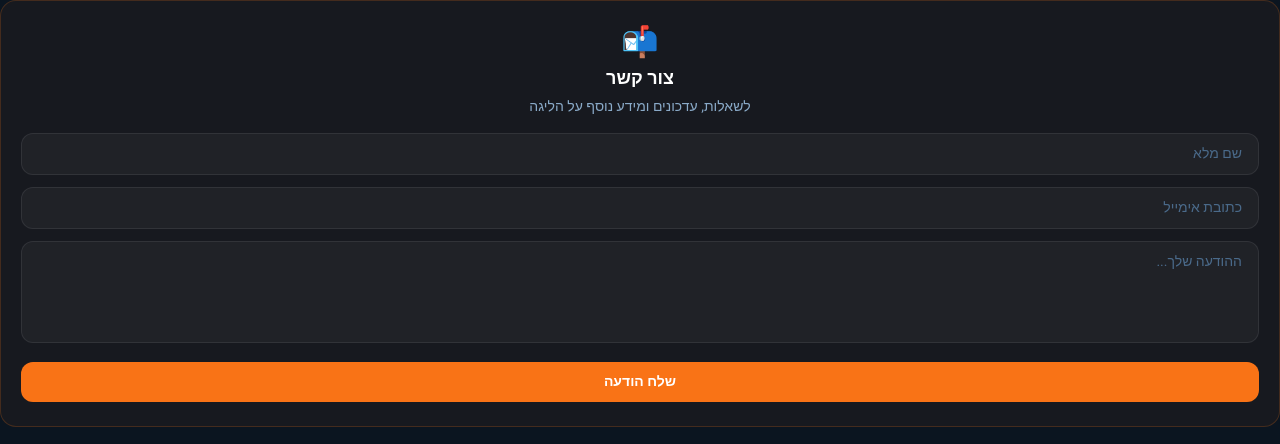
it: ContactForm › posts the entered values to /api/contact and shows the success state
In the field with placeholder "שם מלא": (640, 154) left=21, top=133, right=1259, bottom=175, type "Dana"
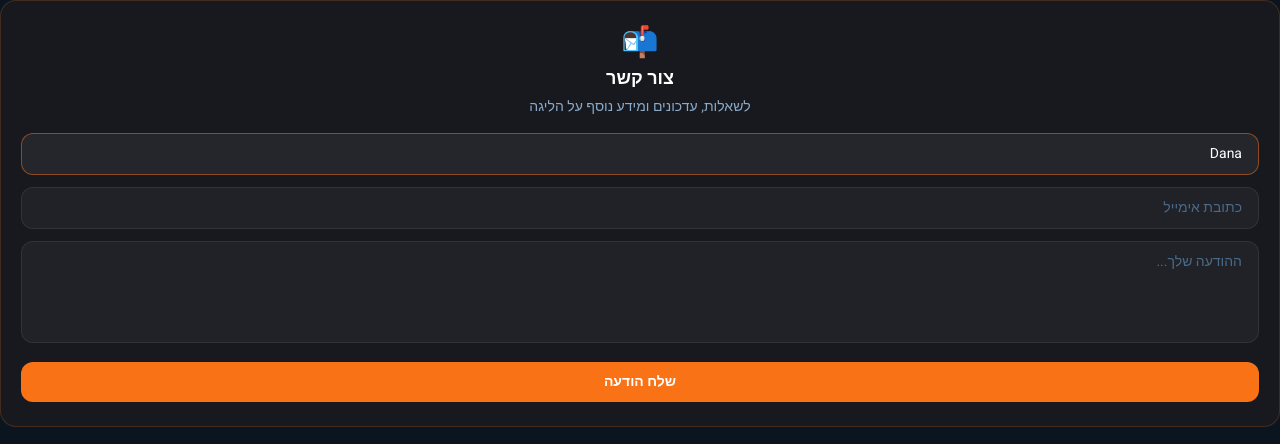
In the field with placeholder "כתובת אימייל": (640, 208) left=21, top=187, right=1259, bottom=229, type "dana@x.com"
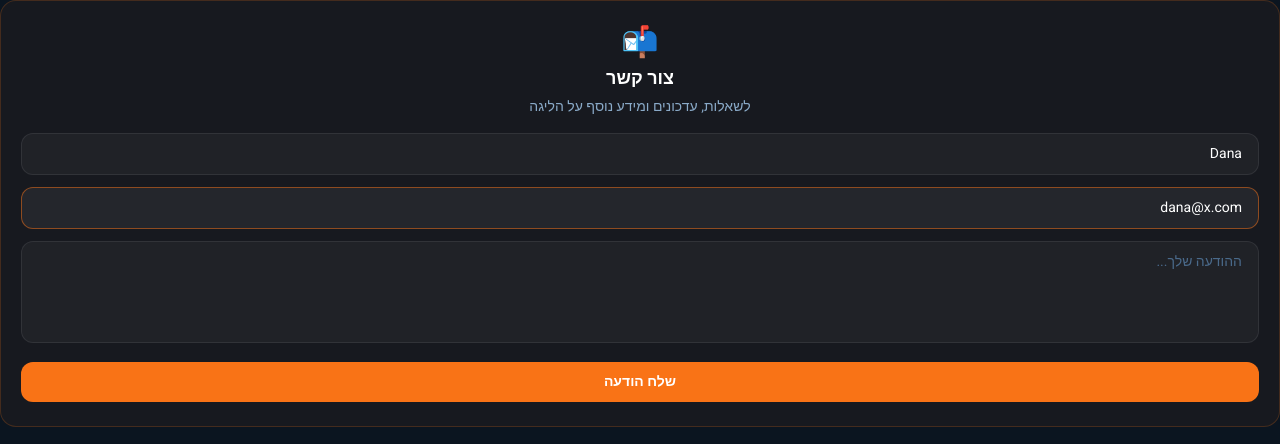
In the text box with placeholder "ההודעה שלך...": (640, 292) left=21, top=241, right=1259, bottom=343, type "Hello there"
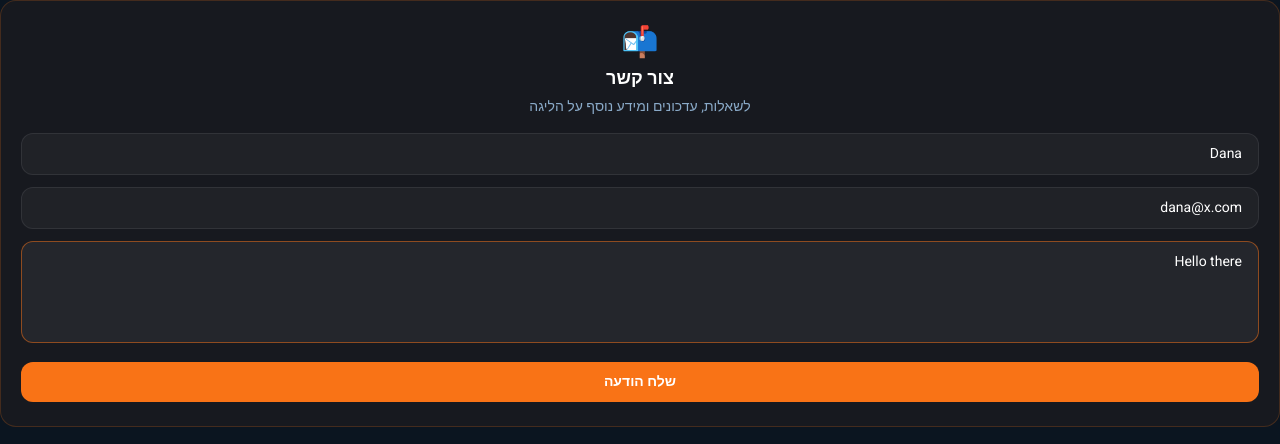
Click the button "שלח הודעה": click(640, 382) left=21, top=362, right=1259, bottom=402
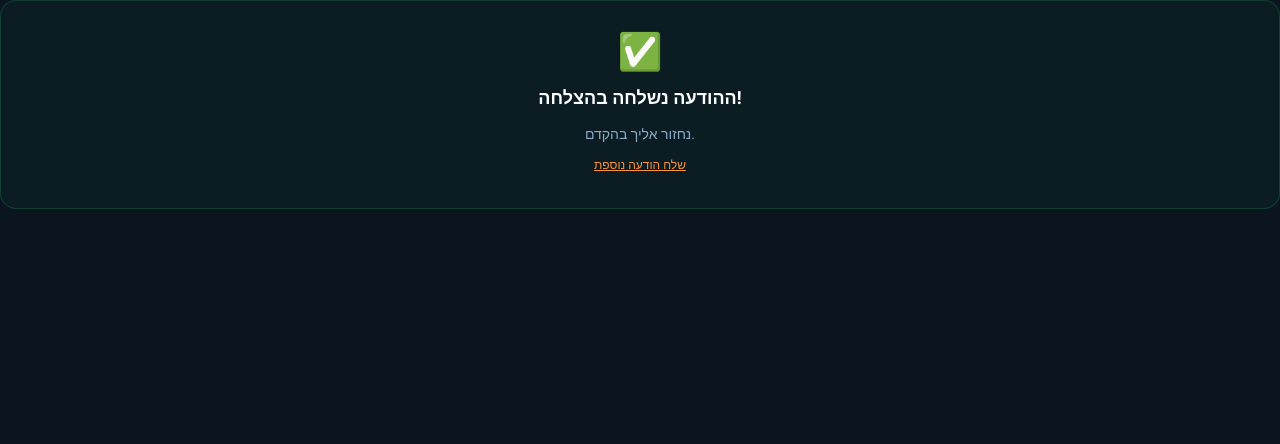
Now the heading "ההודעה נשלחה בהצלחה!" is shown, box left=538, top=85, right=742, bottom=112
